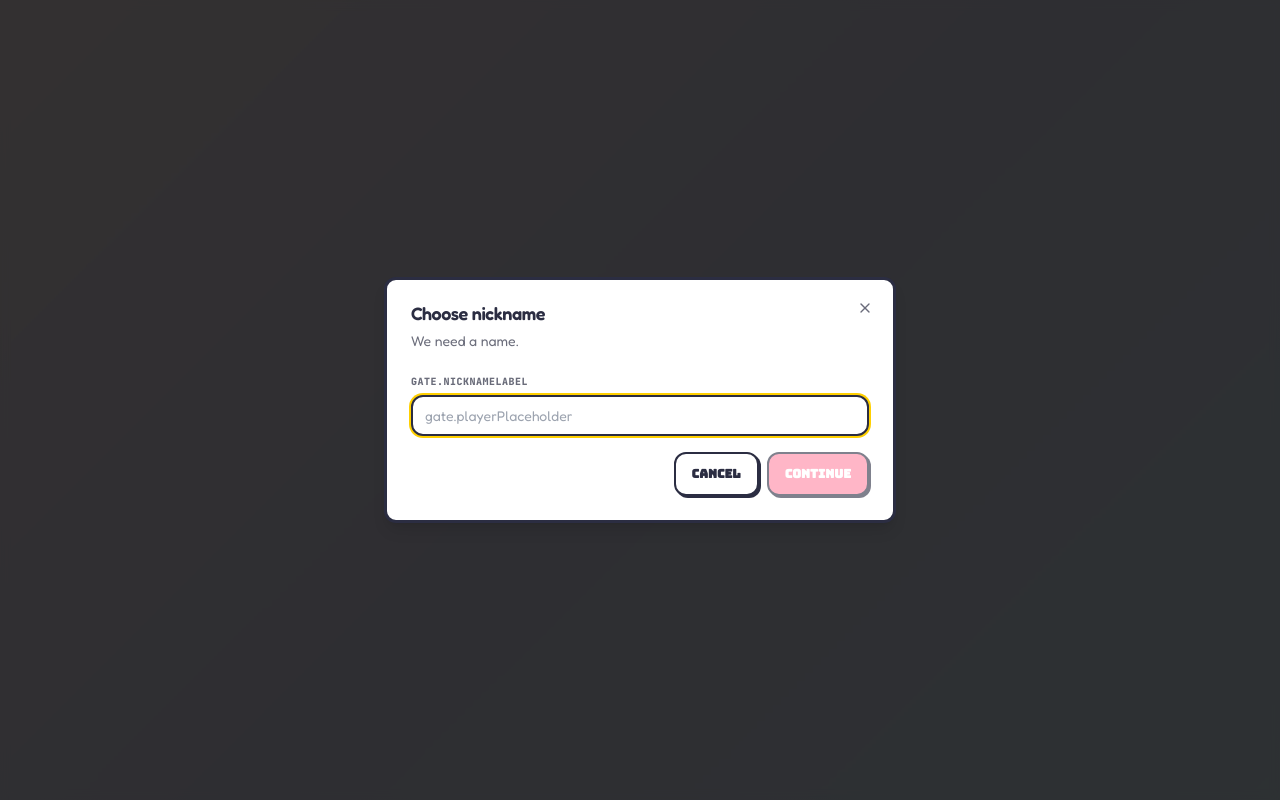
Test: DailyNicknameGate › surfaces the error and keeps the modal open when authenticate rejects
Type "X" into the field at [640, 416], box [411,395,869,436]
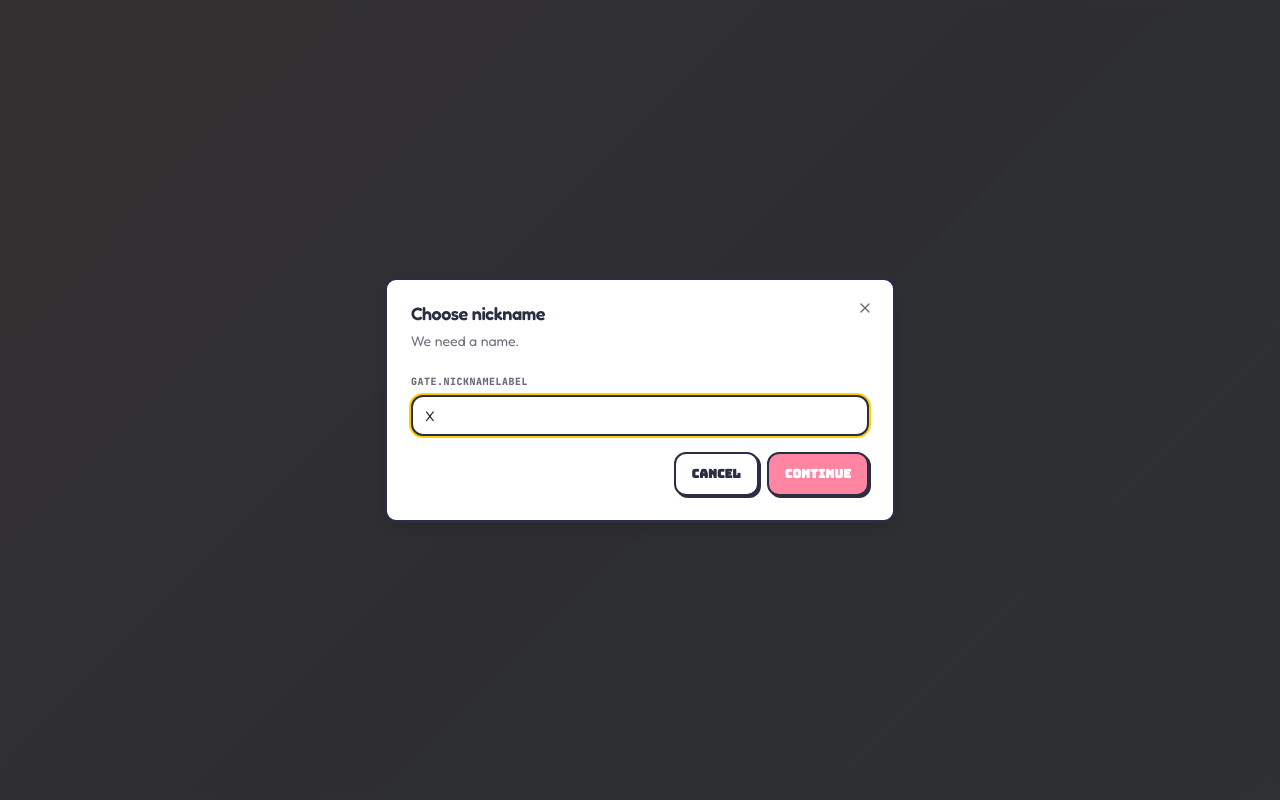
Click the button "Continue" at [818, 474], box [767,452,869,496]
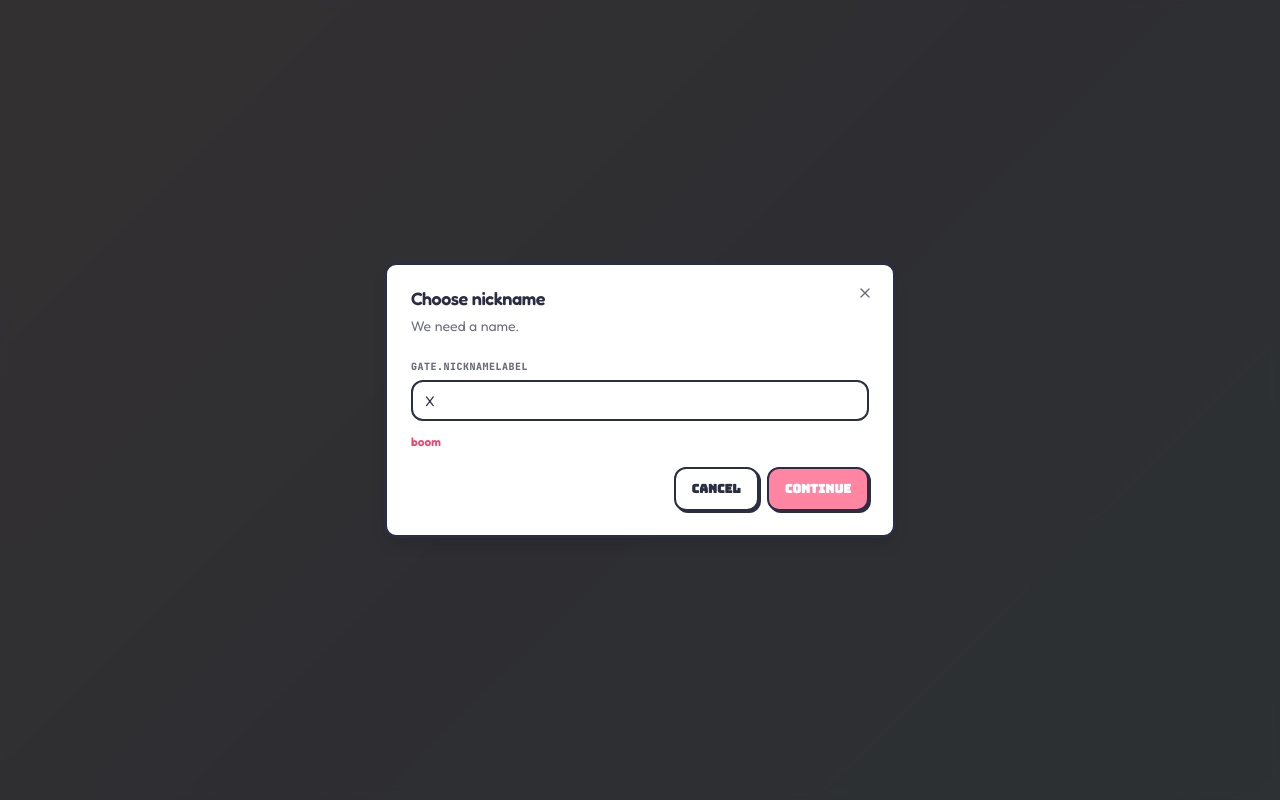
Expected: the text "boom" is shown, [411,434,441,449]
